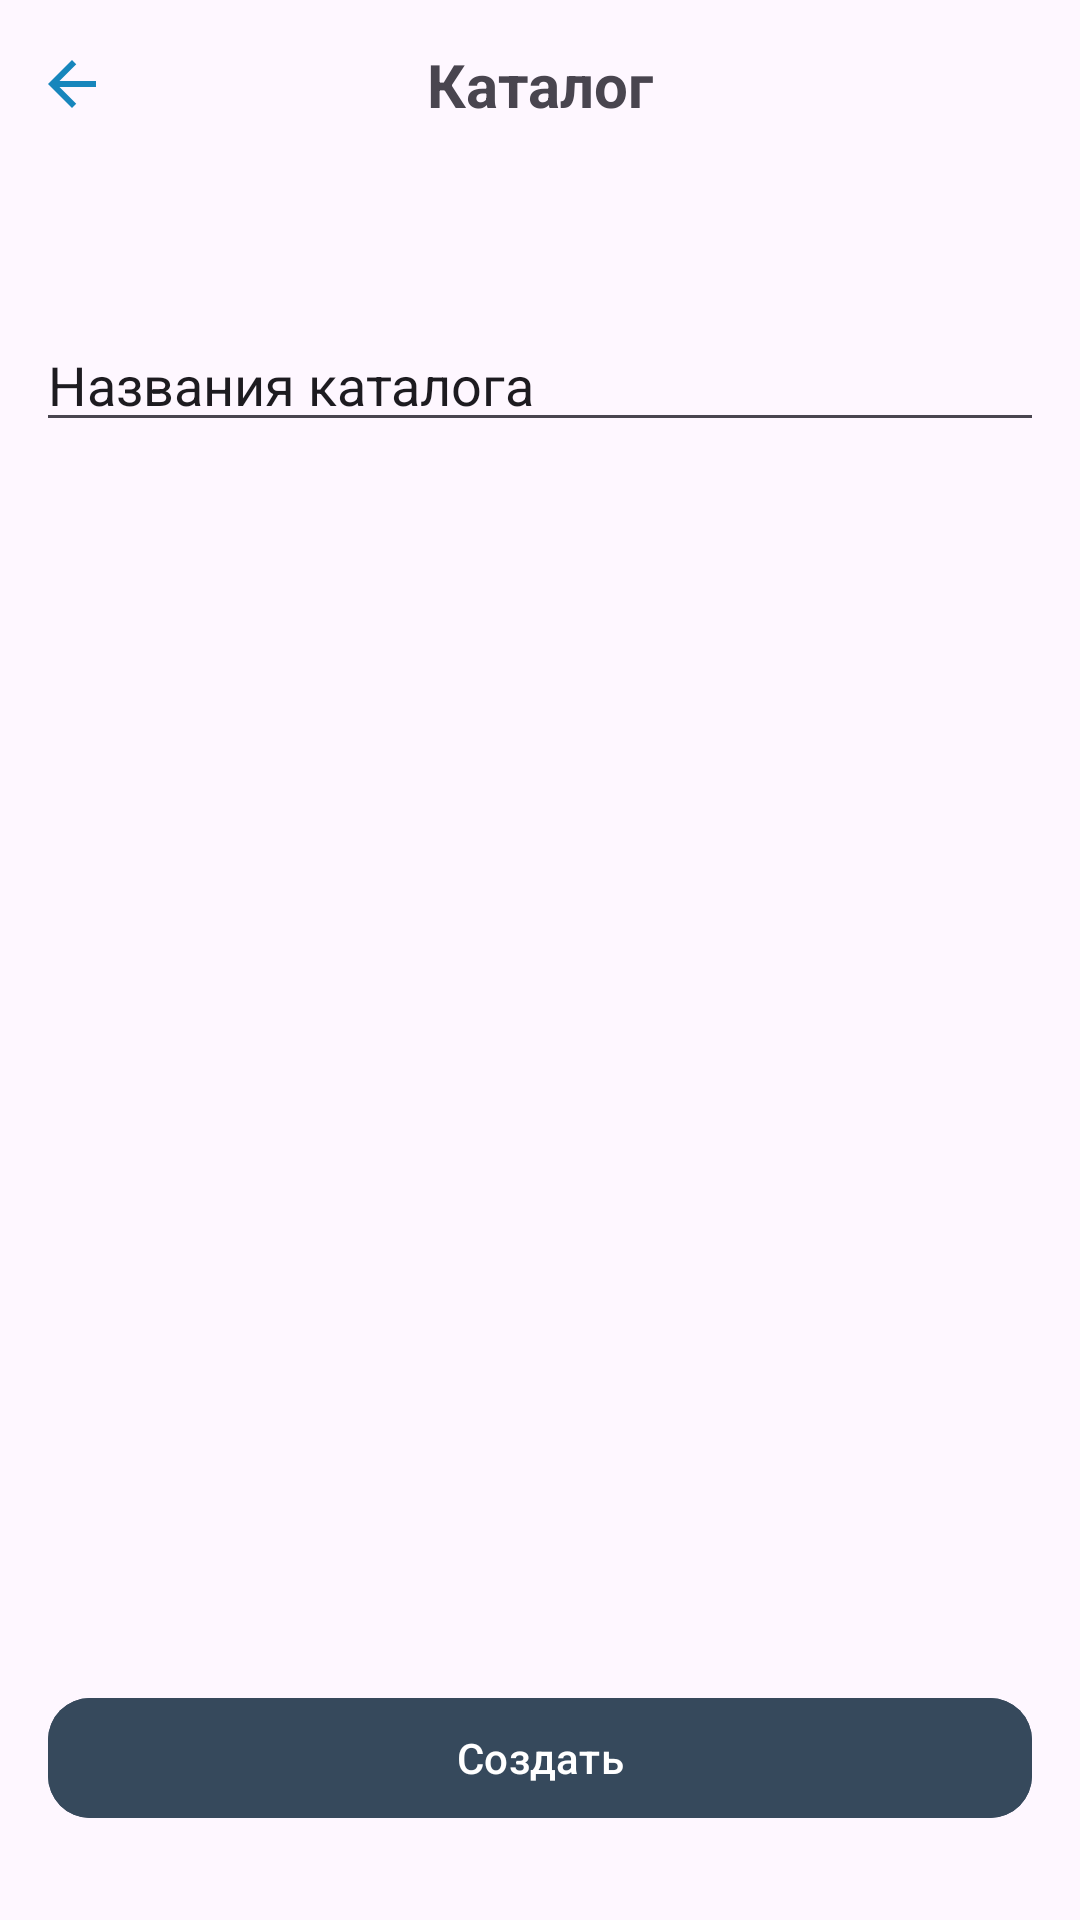

Icon bounding boxes for this 1080*1920 phone screenshot, format {"x1": x1, "y1": y1, "x2": x2, "y2": y2}:
arrow back: {"x1": 48, "y1": 60, "x2": 96, "y2": 108}
